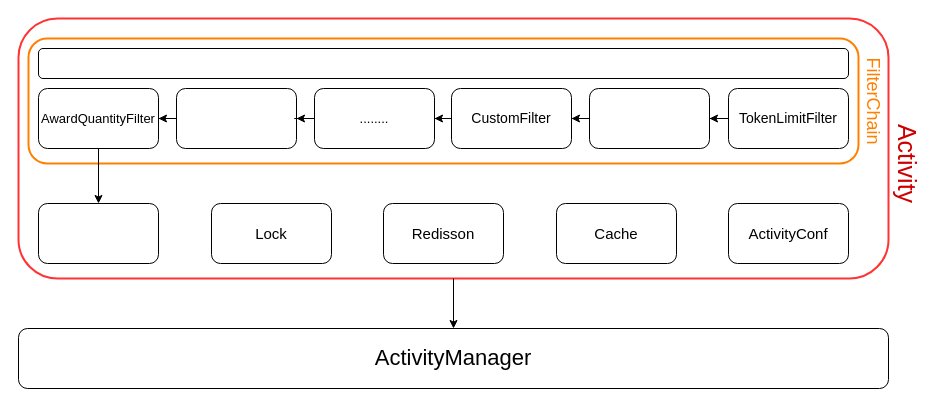
Image size: 945x406. Some labels were removed from this diagram. The centre of each missing label's shape, as x and y in pixels:
AwardRepository: point 98,233
CountFilter: point 649,118
FilterContext: point 443,63
LotteryDrawFilter: point 236,118
